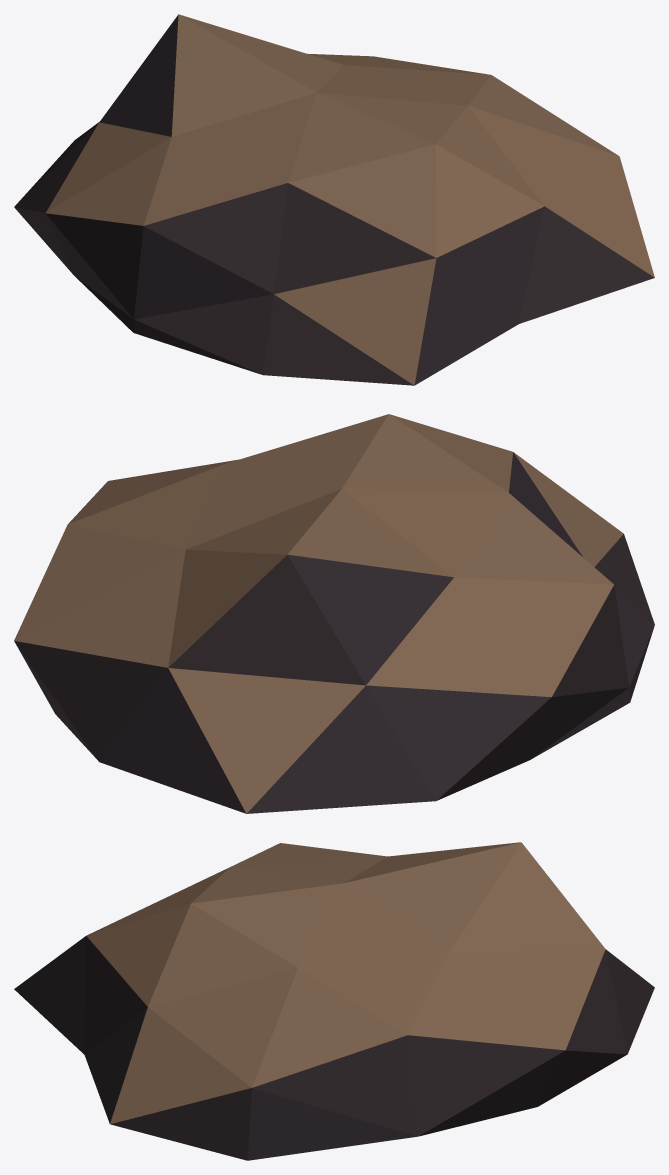
The model's file is boulder_l2.glb.
The picture shows the model from 3 angles, top to bottom: view 1: azimuth 30°, elevation 25°; view 2: azimuth 150°, elevation 25°; view 3: azimuth 270°, elevation 25°; orthographic projection. The views are drawn at different scales.
Parts seen in each view (by area): view 1: body__M_Cliff_Crust_T0, body__M_Cliff_Licorice; view 2: body__M_Cliff_Crust_T0, body__M_Cliff_Licorice; view 3: body__M_Cliff_Crust_T0, body__M_Cliff_Licorice.
Boxes of the visible parts, <box> form: body__M_Cliff_Crust_T0: <box>46,14,654,385</box>; body__M_Cliff_Licorice: <box>14,14,654,385</box>; body__M_Cliff_Crust_T0: <box>14,414,623,813</box>; body__M_Cliff_Licorice: <box>14,452,654,813</box>; body__M_Cliff_Crust_T0: <box>86,842,605,1124</box>; body__M_Cliff_Licorice: <box>14,936,654,1160</box>.
Bounding box in the file's own units: 0.7907 × 0.278 × 0.9306.
